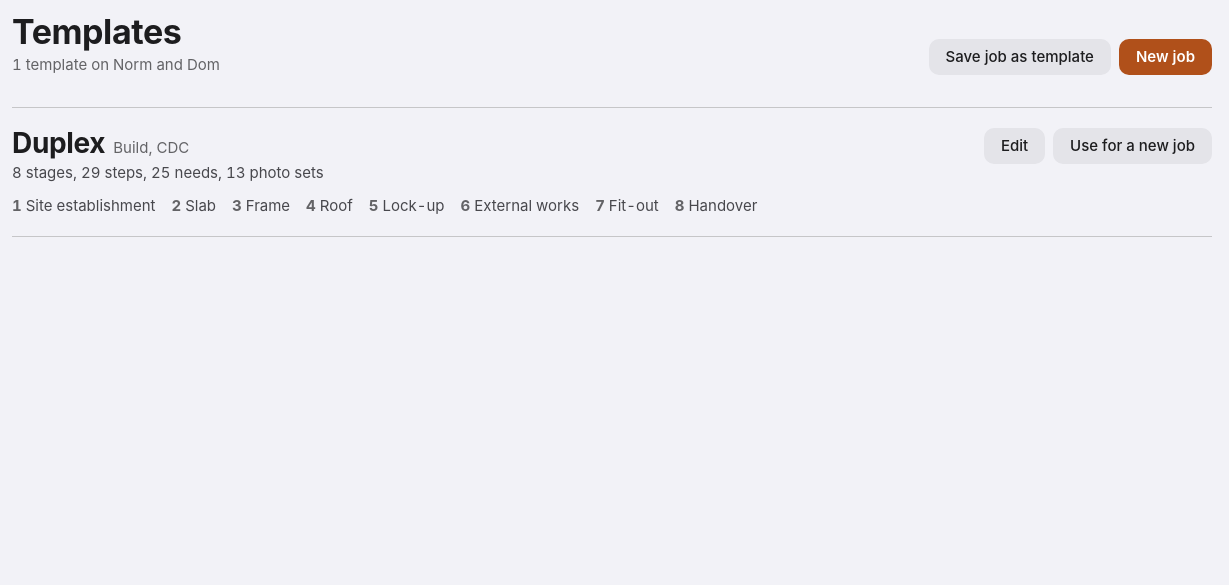
Test: Templates › lists the duplex template and previews a copy of a job
This screenshot has width=1229, height=585.
Check: the list item with test id "template-tpl-duplex" shows "Duplex", box [12,126,105,160]
Check: the list item with test id "template-tpl-duplex" shows "8 stages, 29 steps, 25 needs, 13 photo sets", box [12,163,324,182]
# The copy-a-job form opens from the header (v1 "Save job as template").
Click the button with test id "fromjob-open" at (1020, 57), box [929,39,1111,75]
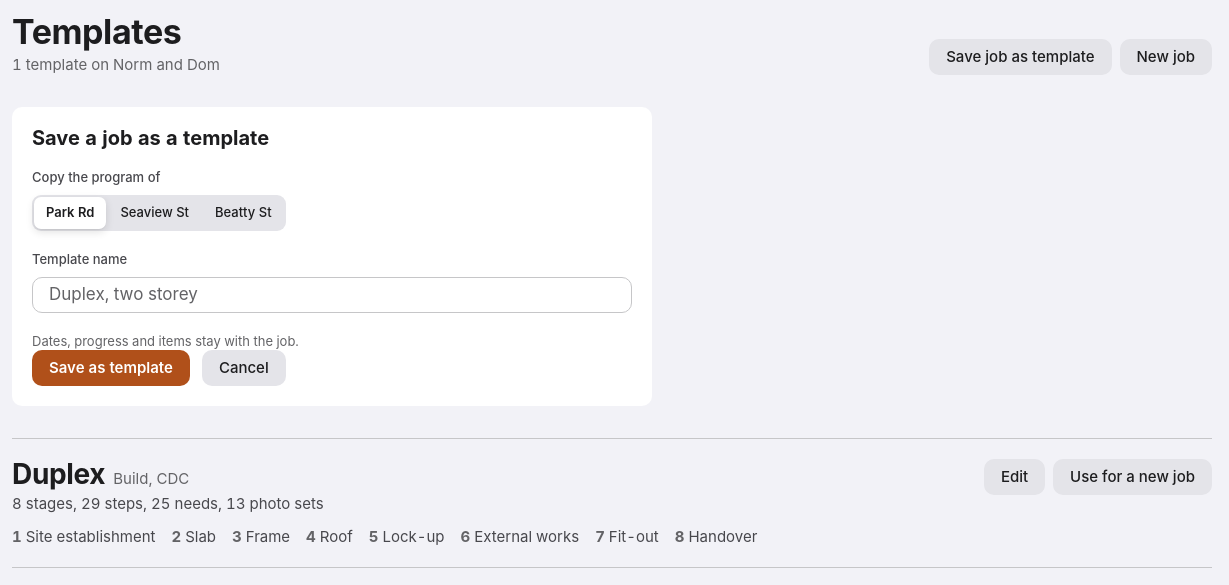
Type "Park Rd program" into the field labelled "Template name" at (332, 294), box [32,276,632,312]
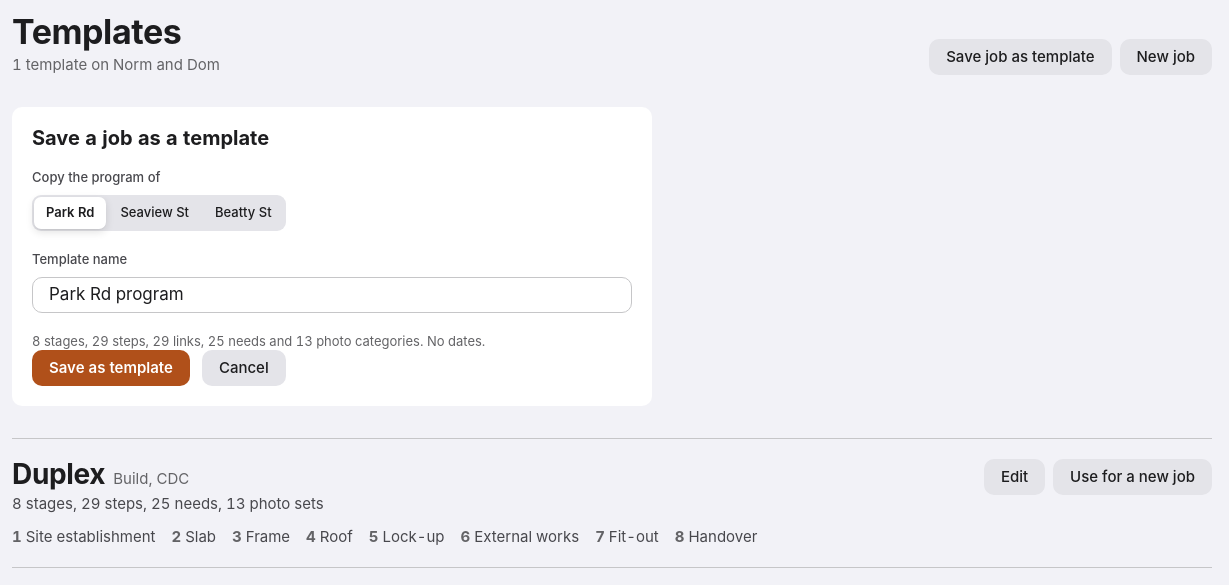
Check: the text with test id "fromjob-preview" reads "8 stages, 29 steps, 29 links, 25 needs and 13 photo categories. No dates.", box [32,332,485,348]
